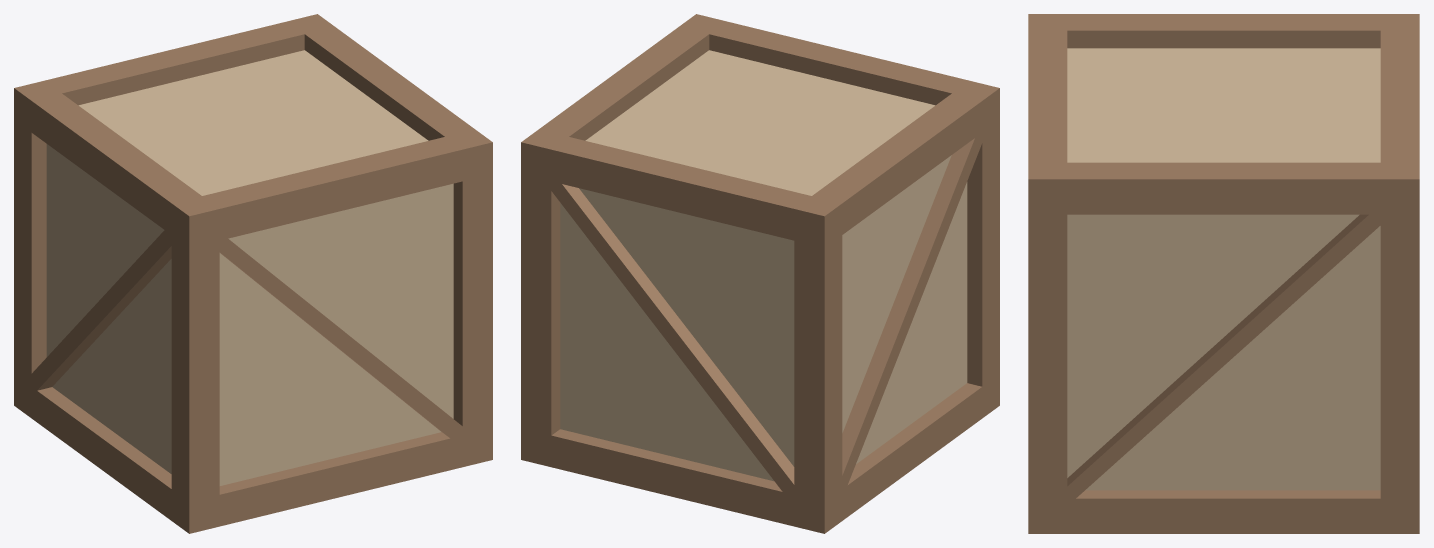
Rendered from Crate1.fbx.
3 views of the same model, side by side, from view 1: azimuth 30°, elevation 25°; view 2: azimuth 150°, elevation 25°; view 3: azimuth 270°, elevation 25° (orthographic). The views are drawn at different scales.
Parts seen in each view (by area): view 1: Cube; view 2: Cube; view 3: Cube.
Boxes of the visible parts, left/top/right/bottom form: Cube: left=14, top=14, right=492, bottom=533; Cube: left=521, top=14, right=999, bottom=533; Cube: left=1028, top=14, right=1419, bottom=533.
Bounding box in the file's own units: 200 × 200 × 200.
